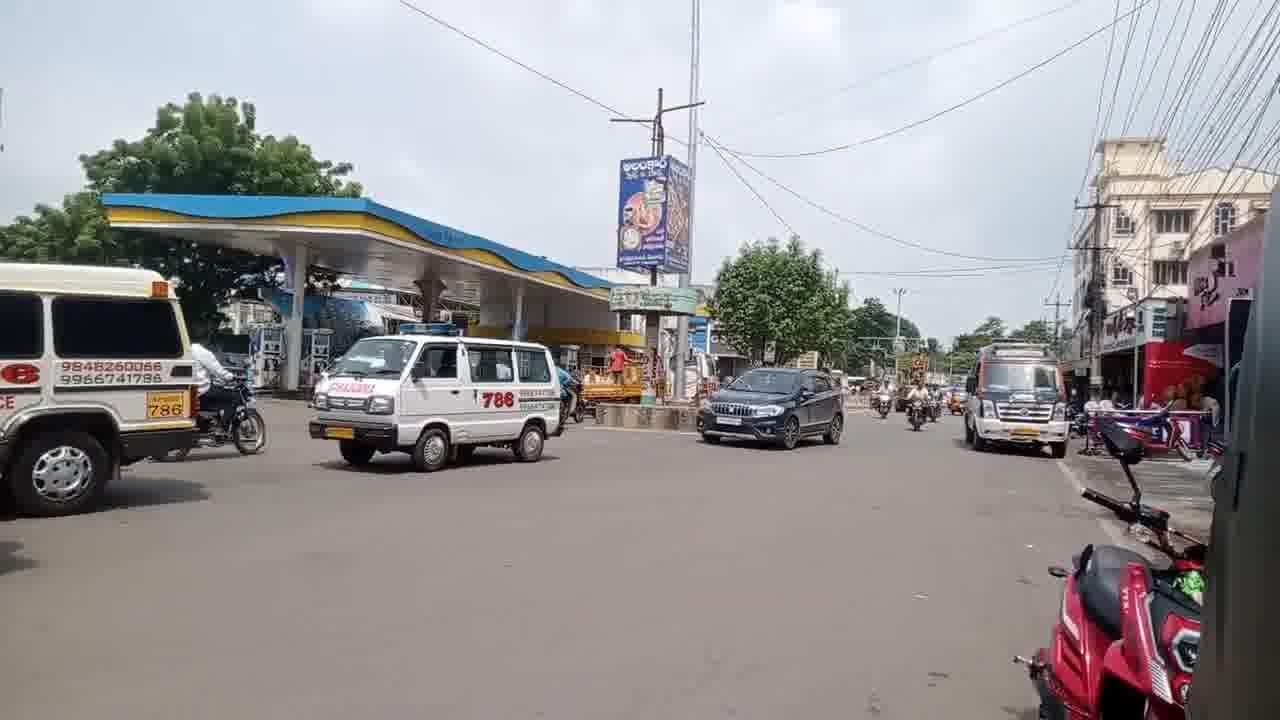AMBULANCE: (4, 249, 218, 546), (280, 329, 583, 478), (970, 335, 1073, 464)
